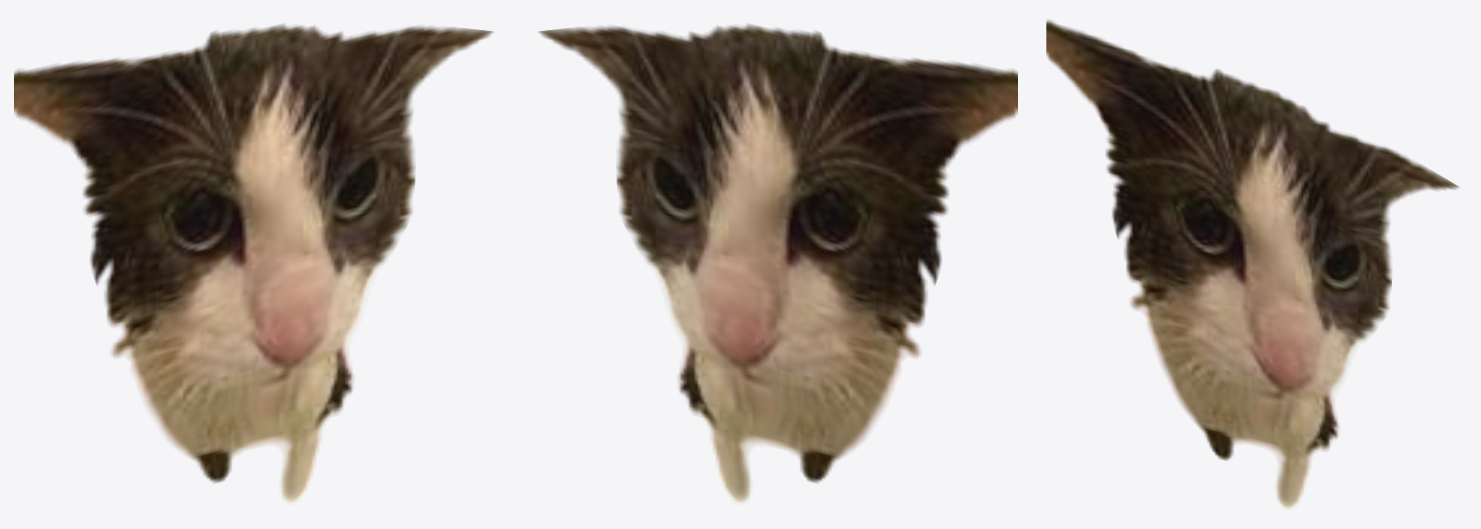
Rendered from sog1.glb.
The picture shows the model from 3 angles, left to right: view 1: azimuth 30°, elevation 25°; view 2: azimuth 150°, elevation 25°; view 3: azimuth 330°, elevation 25°; orthographic projection. The views are drawn at different scales.
Visible parts, largest first — view 1: sog-removebg-preview; view 2: sog-removebg-preview; view 3: sog-removebg-preview.
Part boxes in pixels (x1,y1,x2,y2): sog-removebg-preview: (14, 24, 492, 502); sog-removebg-preview: (539, 24, 1017, 502); sog-removebg-preview: (1046, 20, 1458, 508).
Bounding box in the file's own units: 0.8213 × 0.8297 × 2.98e-08.
Materials: 1 (1 with a texture image).
